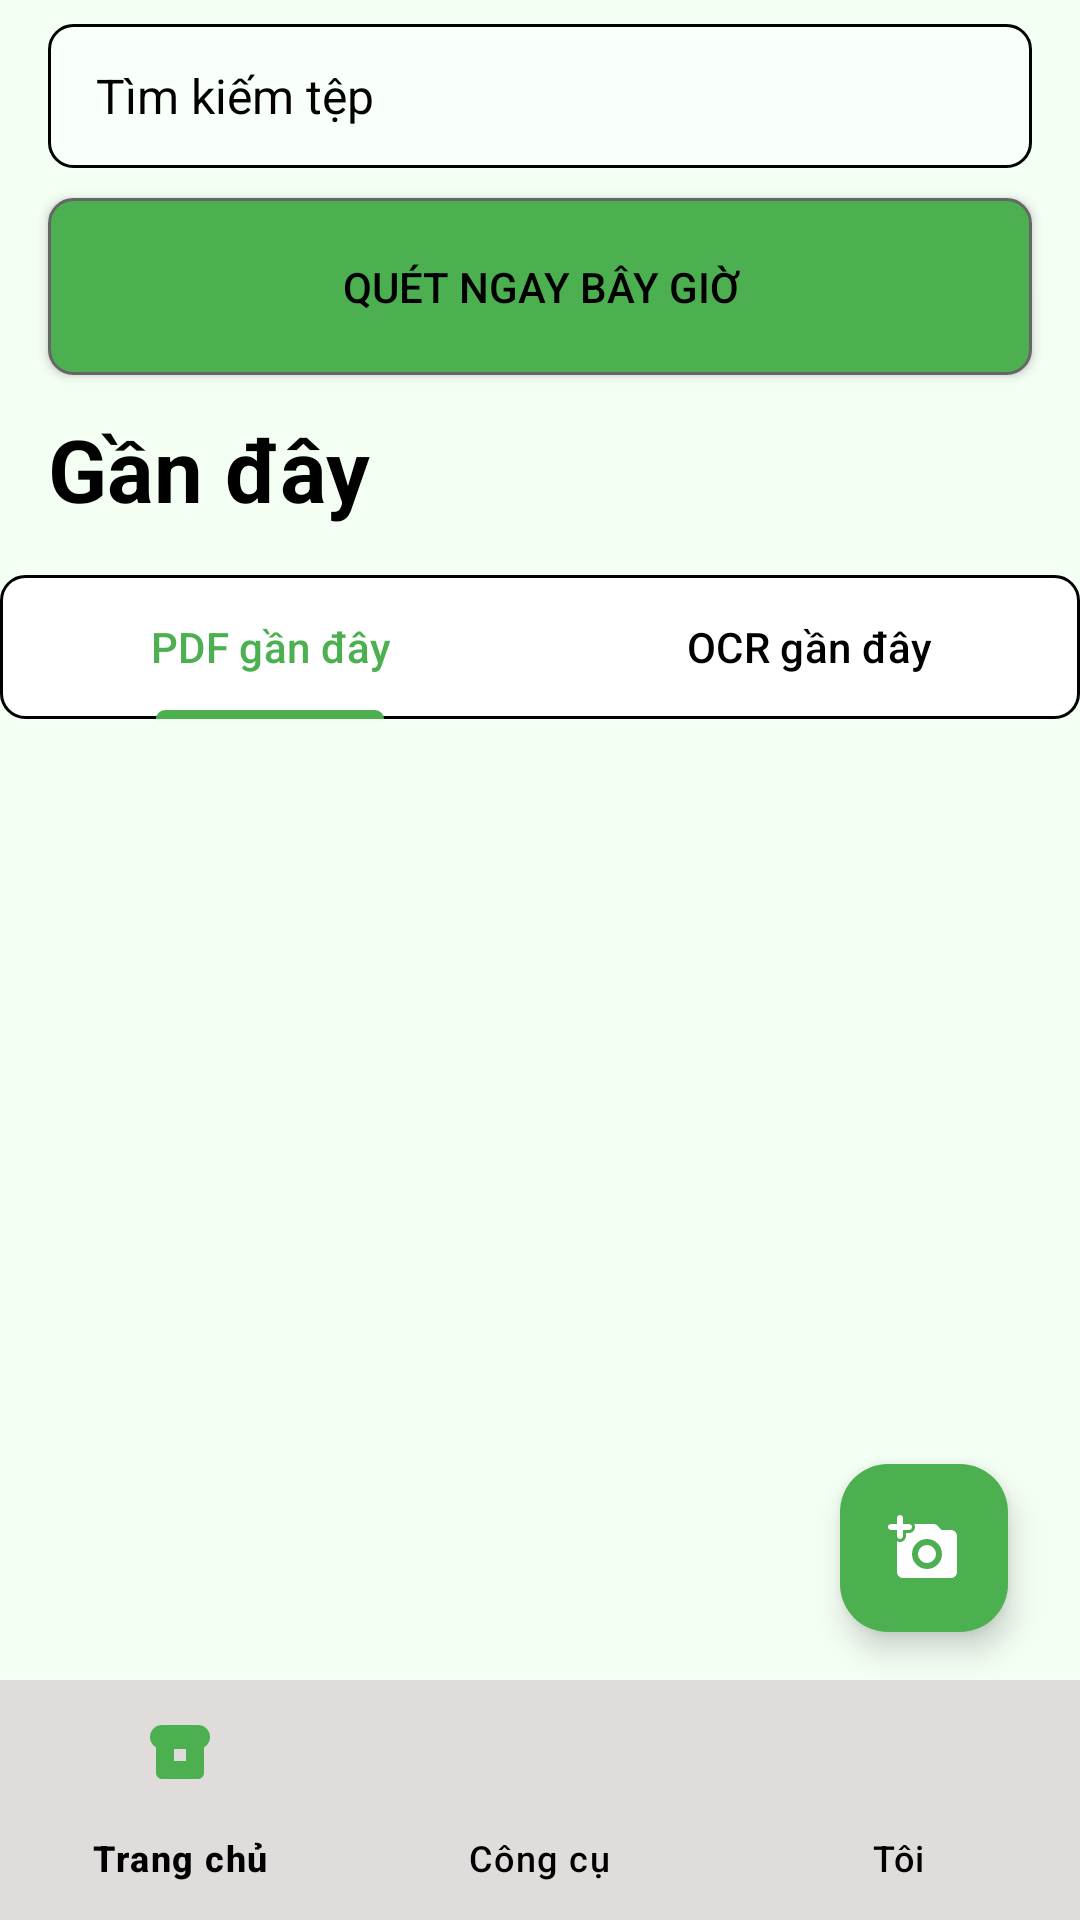

Point at icon controls on the screen. Image size 1080px x 1920px, points as (x,y).
camera: (924,1548)
